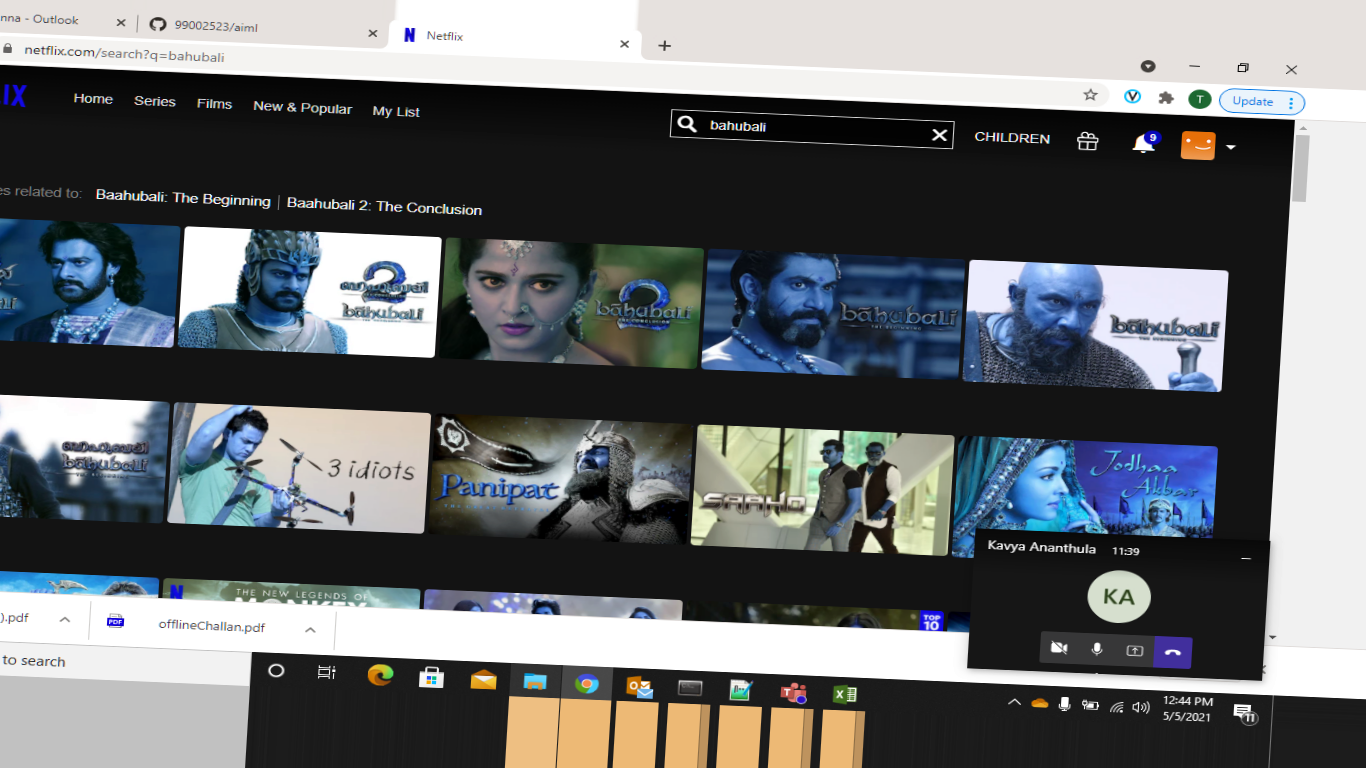profileicon: (1172, 119, 1241, 170)
resultsfound: (1, 163, 492, 231)
searchicon: (678, 109, 709, 133)
searchtextbox: (666, 97, 960, 159)
